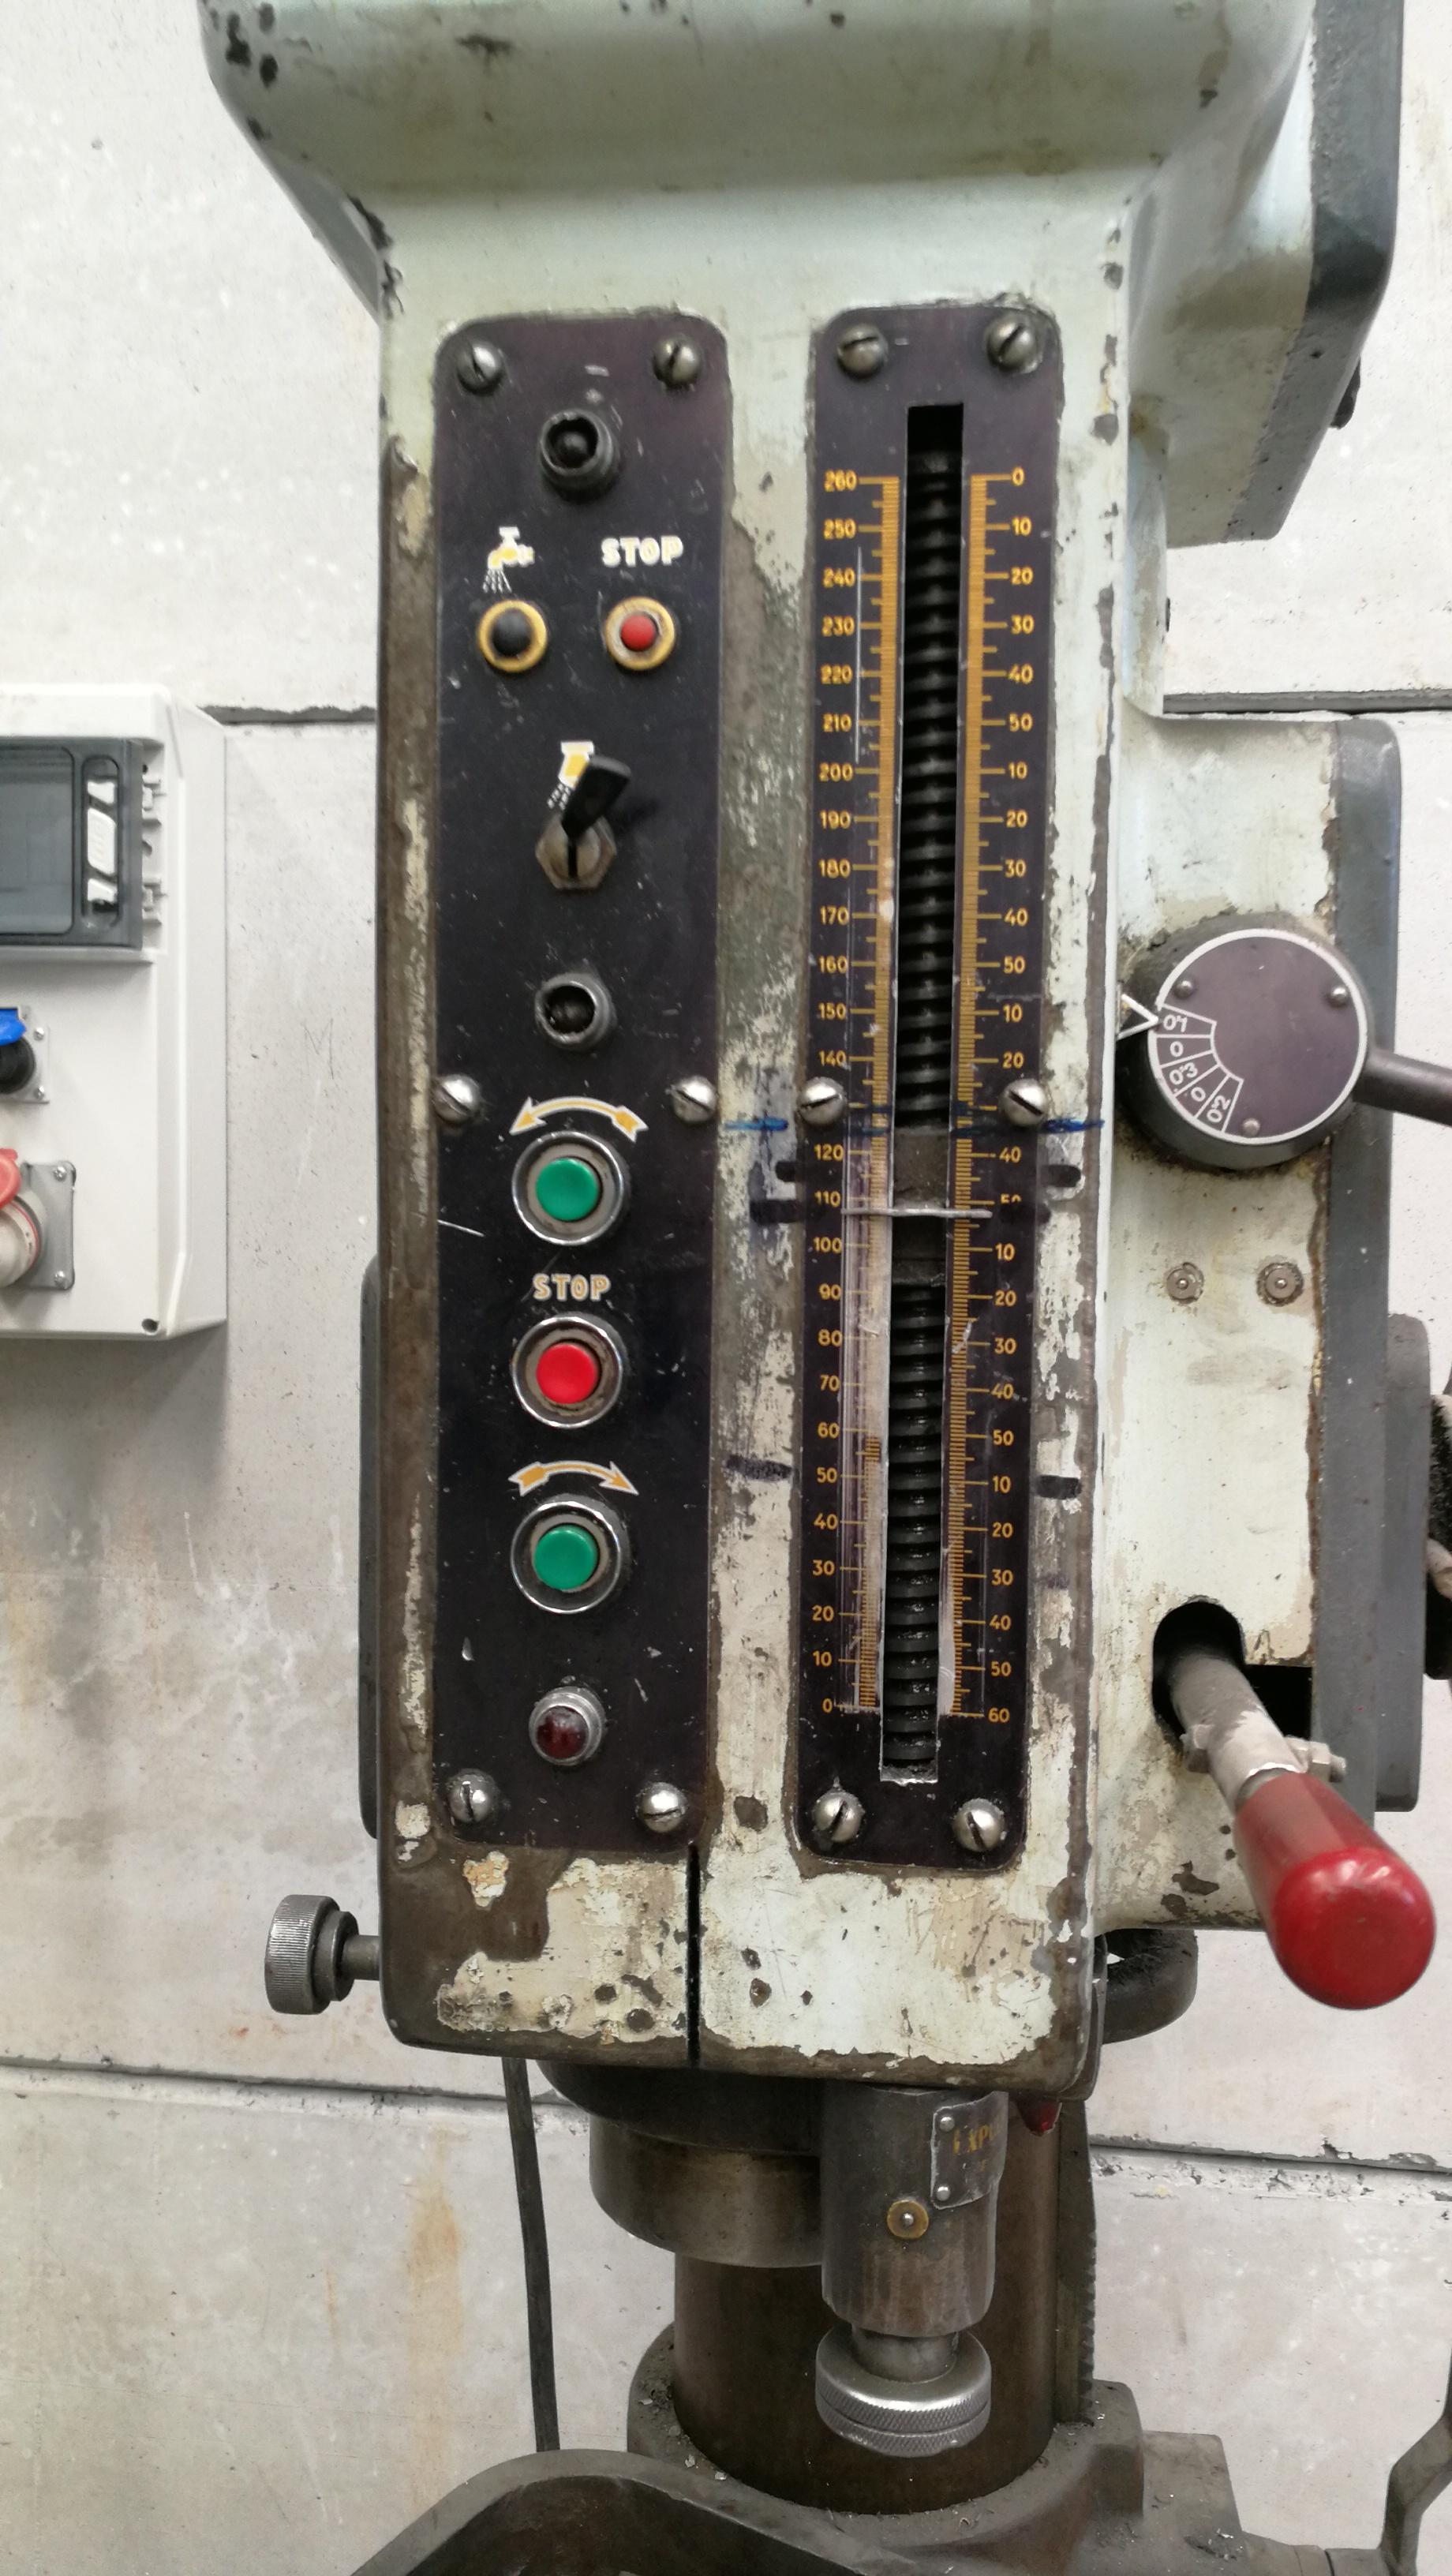falta_resguardo: (513, 1992, 1128, 2530)
mandos_inseguros: (398, 288, 762, 1874)
